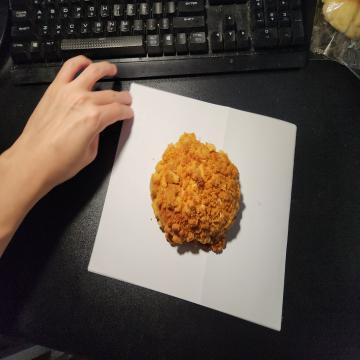soboru_bread: (150, 130, 240, 256)
